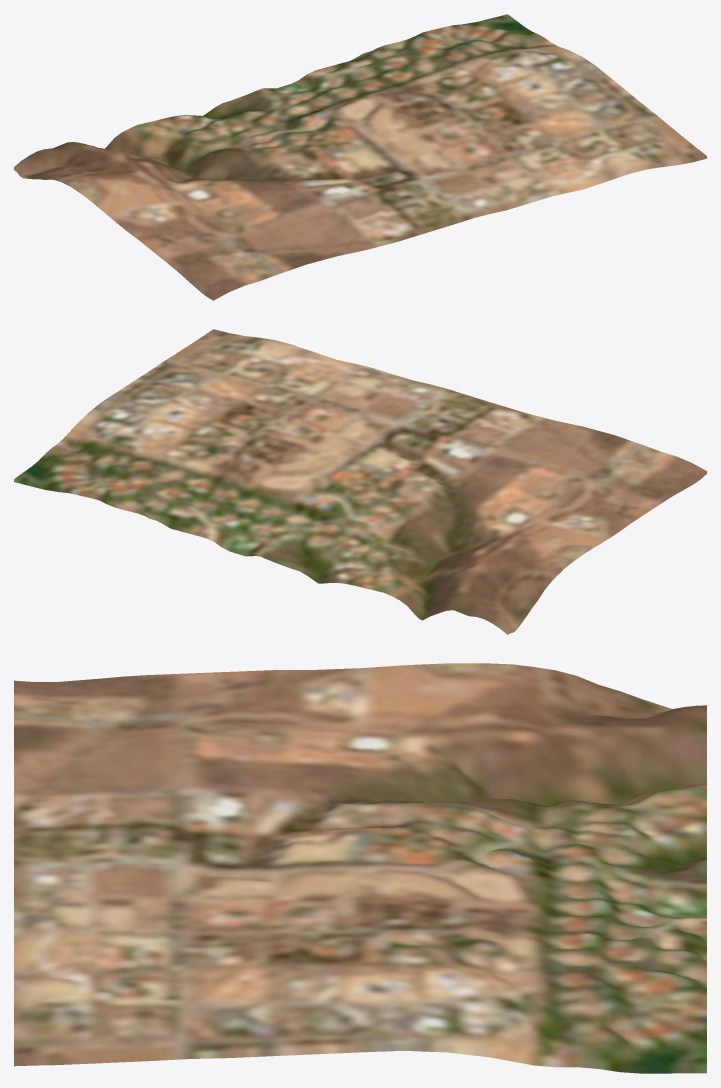
Rendered from terrain_r3_c0_lod1.glb.
3 renders of one model, top to bottom at view 1: azimuth 30°, elevation 25°; view 2: azimuth 150°, elevation 25°; view 3: azimuth 270°, elevation 25°, orthographic. The views are drawn at different scales.
Parts seen in each view (by area): view 1: terrain_r3_c0_lod1; view 2: terrain_r3_c0_lod1; view 3: terrain_r3_c0_lod1.
Boxes of the visible parts, <box> form: terrain_r3_c0_lod1: <box>14,14,706,300</box>; terrain_r3_c0_lod1: <box>14,329,706,634</box>; terrain_r3_c0_lod1: <box>14,663,706,1073</box>.
Size of the model in its own units: 1125 by 119 by 787.
Materials: 1 (1 with a texture image).
